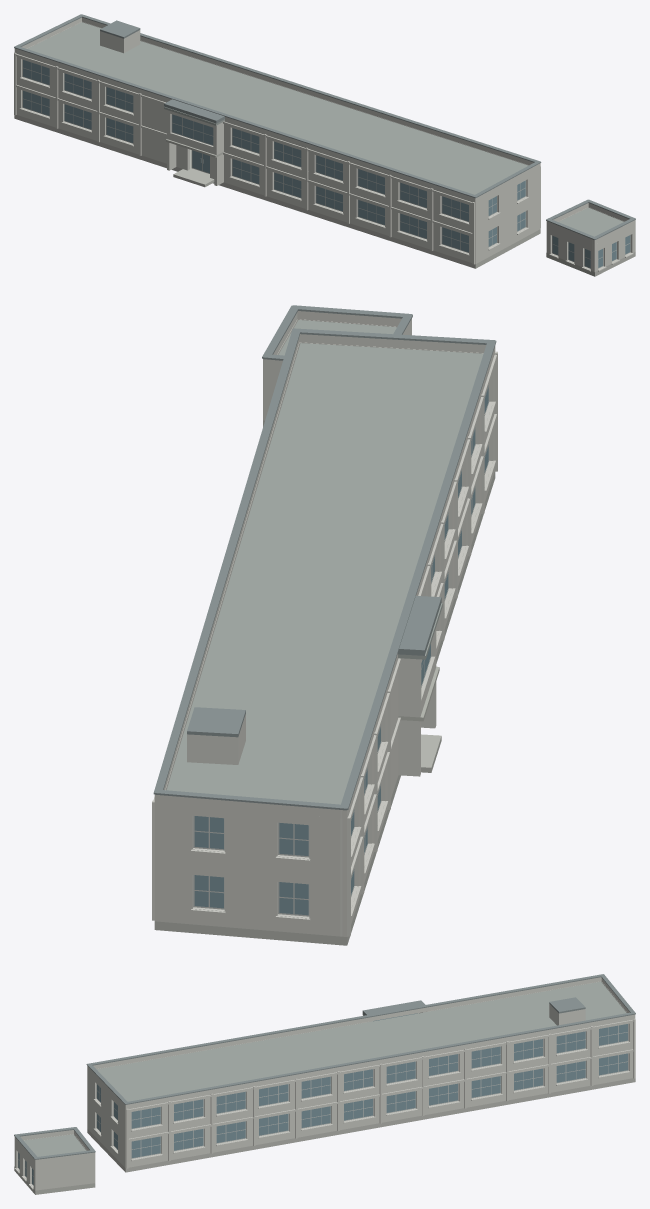
3 views of the same model, one above another, from view 1: azimuth 30°, elevation 25°; view 2: azimuth 150°, elevation 25°; view 3: azimuth 270°, elevation 25° (orthographic). The views are drawn at different scales.
Parts seen in each view (by area): view 1: annex__white, annex__roof, annex__glass, annex__cap, annex__threshold-entry, annex__frame; view 2: annex__roof, annex__white, annex__cap, annex__glass, annex__threshold-entry, annex__frame; view 3: annex__white, annex__roof, annex__glass, annex__cap, annex__frame, annex__threshold-entry.
Part boxes in pixels (bbox=[...]): annex__white: bbox=[14, 17, 635, 271]; annex__roof: bbox=[27, 22, 623, 236]; annex__glass: bbox=[23, 60, 630, 267]; annex__cap: bbox=[14, 14, 635, 239]; annex__threshold-entry: bbox=[14, 115, 635, 276]; annex__frame: bbox=[22, 59, 630, 268]; annex__roof: bbox=[167, 320, 483, 804]; annex__white: bbox=[152, 311, 497, 936]; annex__cap: bbox=[153, 305, 496, 810]; annex__glass: bbox=[194, 385, 488, 915]; annex__threshold-entry: bbox=[154, 420, 495, 945]; annex__frame: bbox=[193, 384, 489, 916]; annex__white: bbox=[14, 977, 635, 1190]; annex__roof: bbox=[24, 981, 626, 1156]; annex__glass: bbox=[18, 1013, 627, 1184]; annex__cap: bbox=[14, 974, 635, 1159]; annex__frame: bbox=[18, 1024, 628, 1185]; annex__threshold-entry: bbox=[14, 1078, 635, 1194].
Size of the model in its own units: 37.64 by 9.08 by 64.79.
